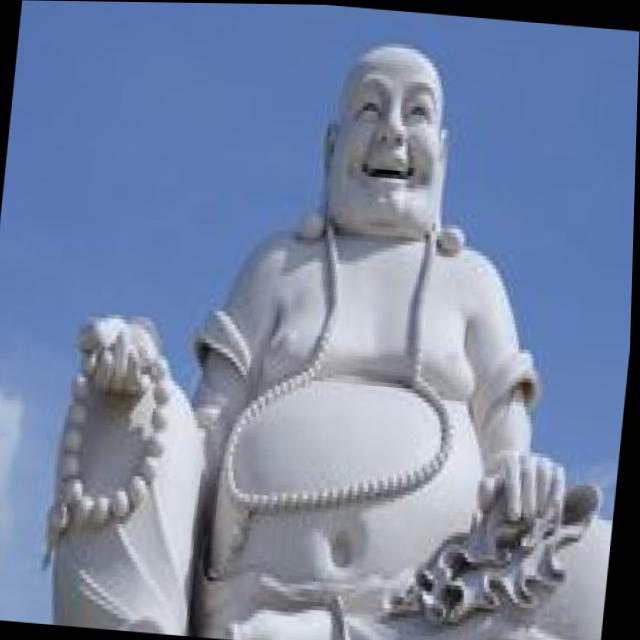Smiling Buddha: (213, 30, 516, 565)
